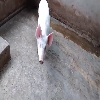heo: (34, 22, 54, 68)
